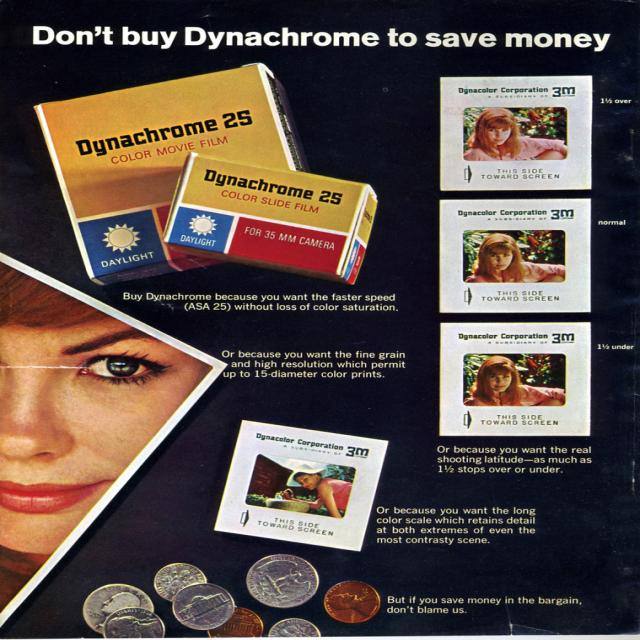Coin: (243, 554, 322, 612), (84, 583, 156, 633), (169, 579, 237, 631), (151, 560, 212, 606), (322, 581, 382, 622), (98, 608, 172, 640), (203, 604, 267, 640), (263, 619, 319, 640)
